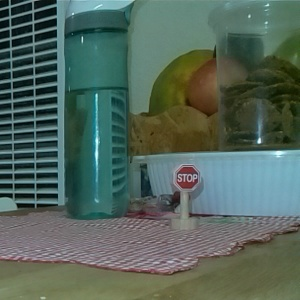stop sign: (171, 162, 202, 229)
